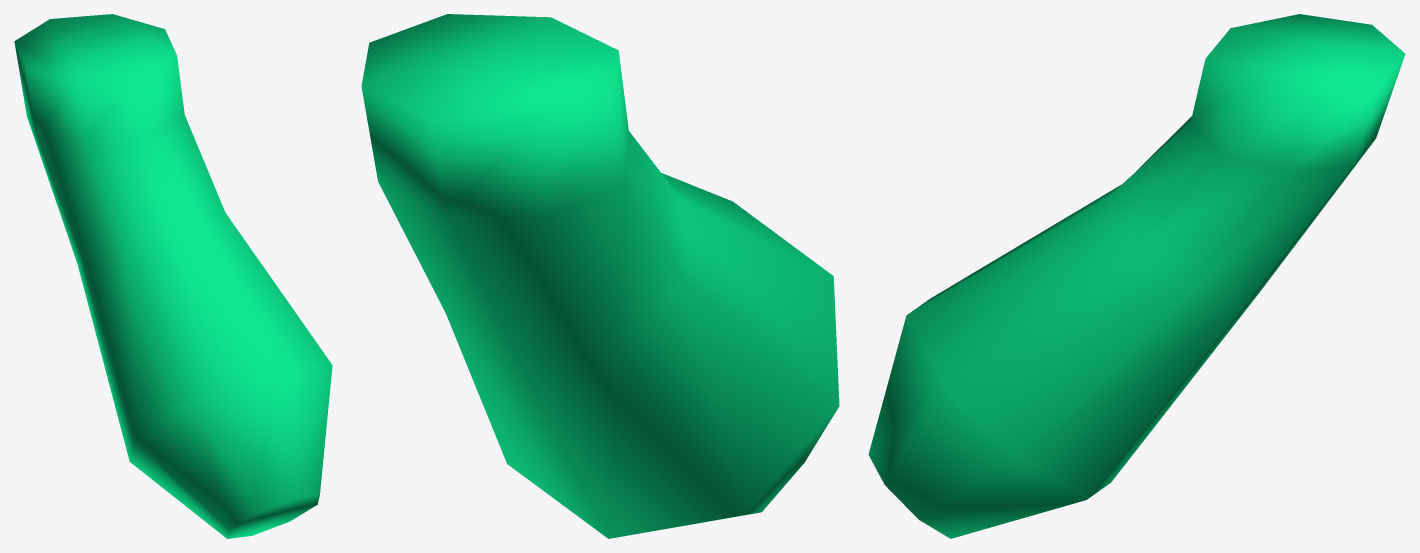
The model's file is Mushroom_02_Feet.fbx.
3 views of the same model, side by side, from view 1: azimuth 30°, elevation 25°; view 2: azimuth 150°, elevation 25°; view 3: azimuth 270°, elevation 25° (orthographic). The views are drawn at different scales.
Parts seen in each view (by area): view 1: Mushroom_02_Feet; view 2: Mushroom_02_Feet; view 3: Mushroom_02_Feet.
Boxes of the visible parts, left/top/right/bottom form: Mushroom_02_Feet: left=14, top=14, right=332, bottom=538; Mushroom_02_Feet: left=361, top=14, right=839, bottom=538; Mushroom_02_Feet: left=868, top=14, right=1405, bottom=538.
Size of the model in its own units: 7.86 by 14.51 by 15.14.
